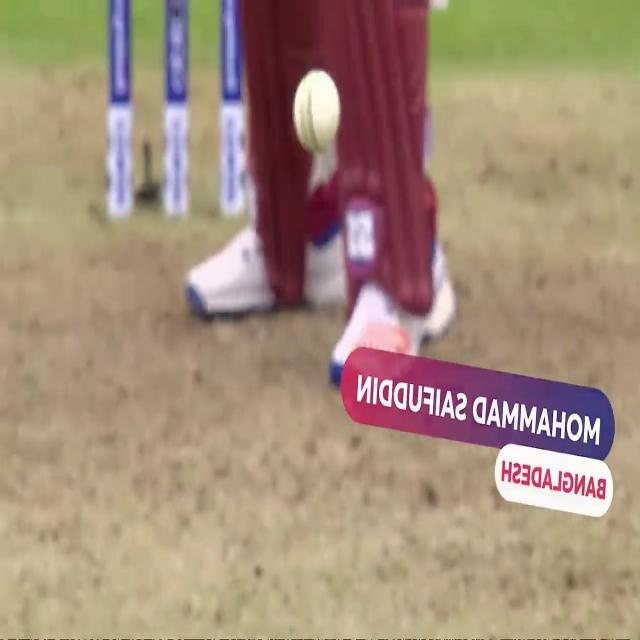ball: (291, 61, 343, 160)
